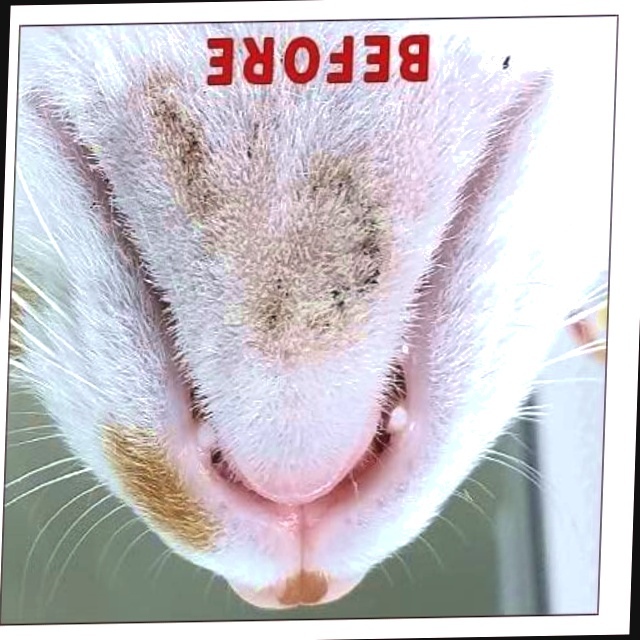acne: (220, 115, 383, 352)
